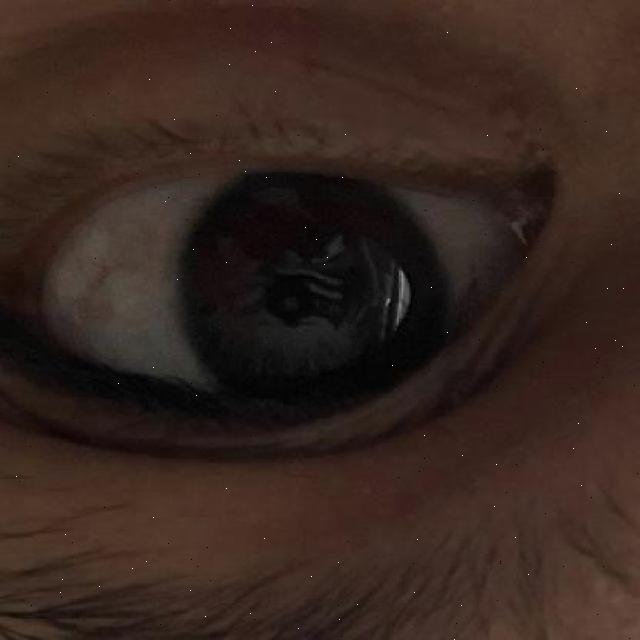Normal: (171, 165, 453, 438)
